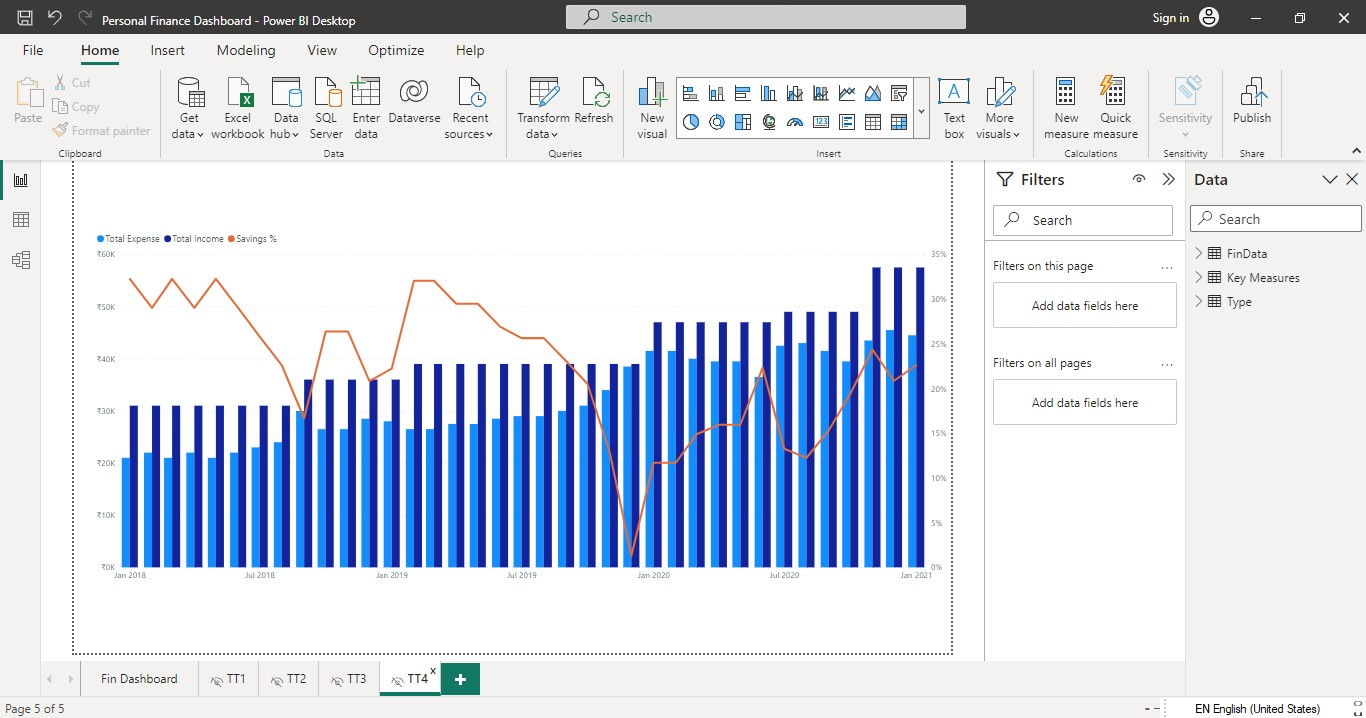

Layout of this report page (visuals, bound fields, positions):
{"tool":"powerbi","page":{"name":"TT4","canvas":[1280,720],"ordinal":4},"visuals":[{"type":"lineClusteredColumnComboChart","fields":{"Category":["FinData.Date"],"Y":["Key Measures.Total Expense","Key Measures.Total Income"],"Y2":["Key Measures.Savings %"]},"box":[27.7,94.3,1252.3,530.2],"z":0}]}

Visuals, with their boxes on the page's 1280x720 design canvas (x1, y1, x2, y2). These are canvas units, not pixel positions in the 1366x718 screenshot, which may show the page scaled, cropped or inside an application window:
lineClusteredColumnComboChart - FinData.Date x Key Measures.Total Expense: [x1=28, y1=94, x2=1280, y2=624]
